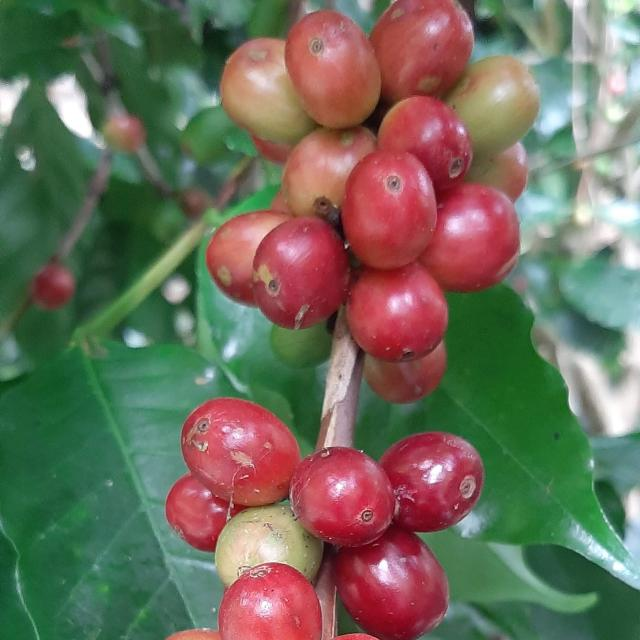Ripe: (181, 398, 301, 507), (335, 527, 450, 640), (342, 149, 438, 270), (418, 182, 521, 293), (253, 216, 351, 330), (290, 447, 396, 548), (380, 433, 485, 533), (347, 262, 448, 362), (218, 564, 322, 640), (165, 474, 245, 552)
Unripe: (285, 9, 381, 128), (370, 0, 474, 103), (220, 37, 316, 144), (445, 55, 541, 154), (214, 505, 323, 588), (378, 95, 473, 190), (281, 125, 377, 219), (206, 210, 291, 306), (364, 341, 447, 404), (465, 142, 530, 201)
